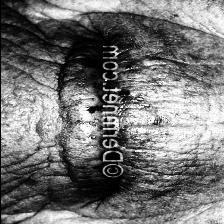Unclassified: (66, 50, 97, 170), (122, 82, 170, 144)
